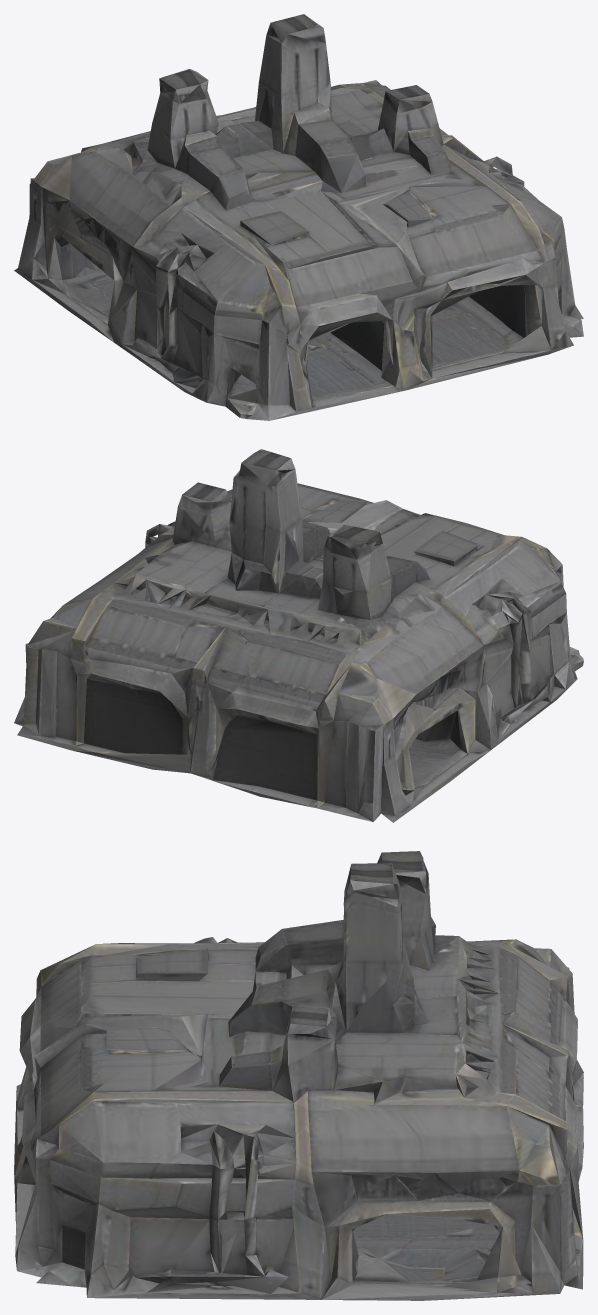
The model's file is imperial_alloy_foundry_lod2.glb.
3 views of the same model, one above another, from view 1: azimuth 30°, elevation 25°; view 2: azimuth 150°, elevation 25°; view 3: azimuth 270°, elevation 25° (orthographic). The views are drawn at different scales.
Parts seen in each view (by area): view 1: mesh_node; view 2: mesh_node; view 3: mesh_node.
Boxes of the visible parts, left/top/right/bottom form: mesh_node: left=14, top=14, right=583, bottom=420; mesh_node: left=14, top=449, right=583, bottom=822; mesh_node: left=14, top=851, right=583, bottom=1300.
Size of the model in its own units: 32.49 by 20.73 by 33.45.
Materials: 1 (1 with a texture image).
